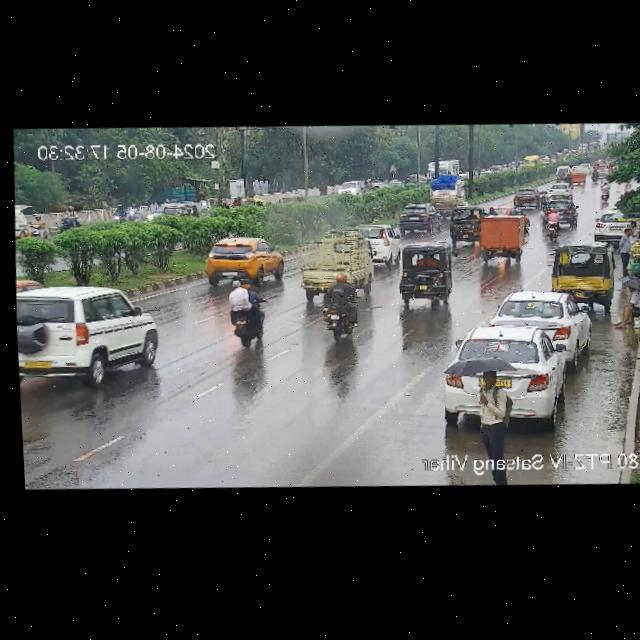car: (15, 278, 161, 388), (440, 324, 562, 424), (493, 286, 587, 359), (205, 236, 284, 287), (394, 241, 457, 304), (555, 237, 617, 297), (477, 214, 525, 259), (366, 222, 401, 260), (396, 202, 438, 232), (590, 206, 627, 238), (451, 207, 482, 238), (543, 201, 576, 226), (161, 203, 195, 225), (334, 177, 363, 196), (14, 207, 27, 238)
motorcycle: (317, 270, 366, 339), (224, 285, 263, 352), (58, 203, 80, 236), (27, 211, 51, 241), (544, 207, 563, 240), (595, 180, 614, 205), (108, 201, 127, 224)
person: (475, 364, 515, 481), (615, 281, 640, 333), (617, 224, 635, 272)
truck: (297, 231, 374, 292)
